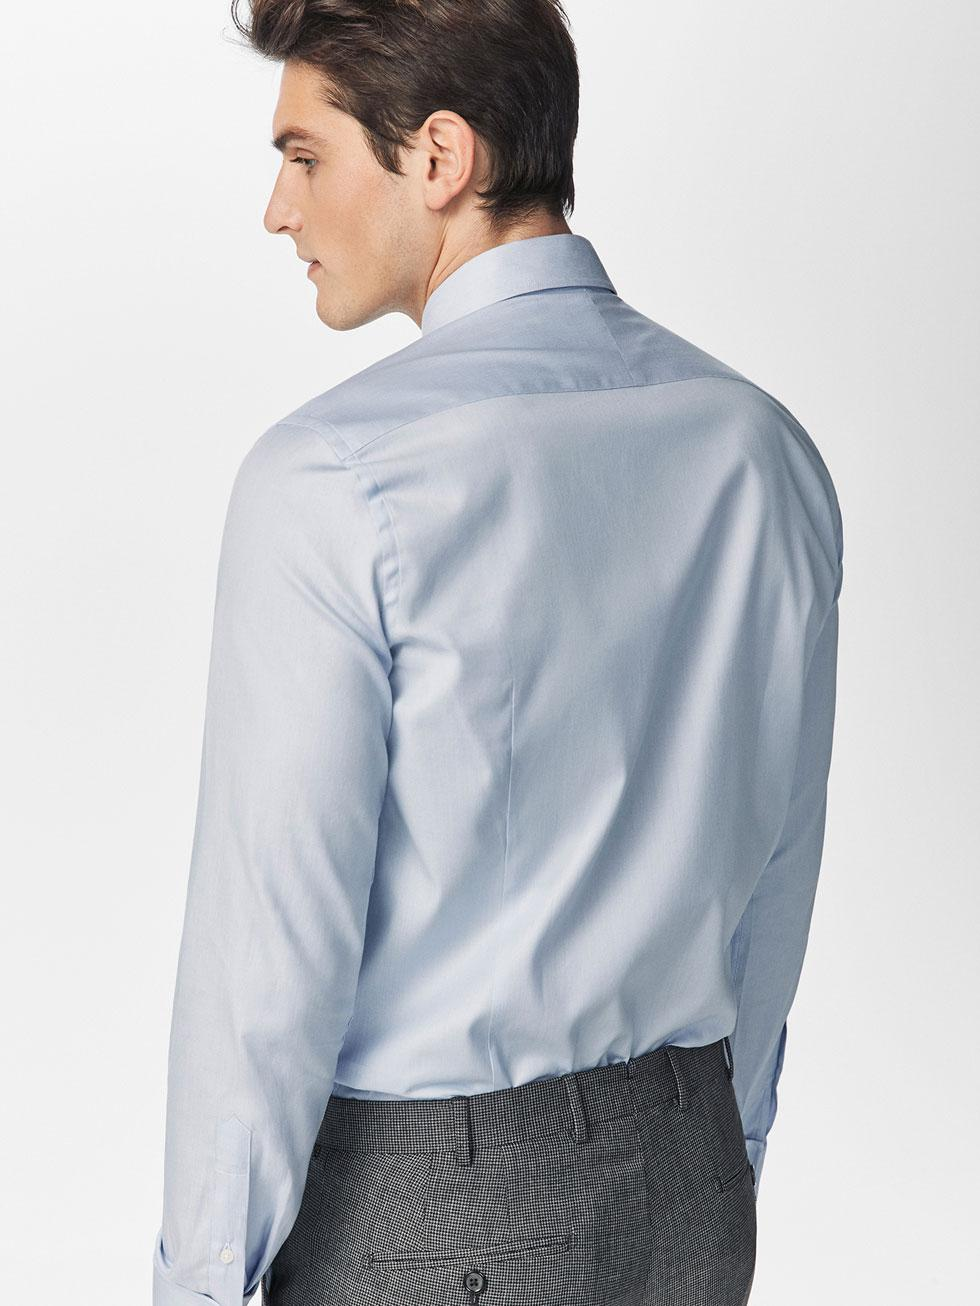teeshirt: (97, 231, 845, 1306)
